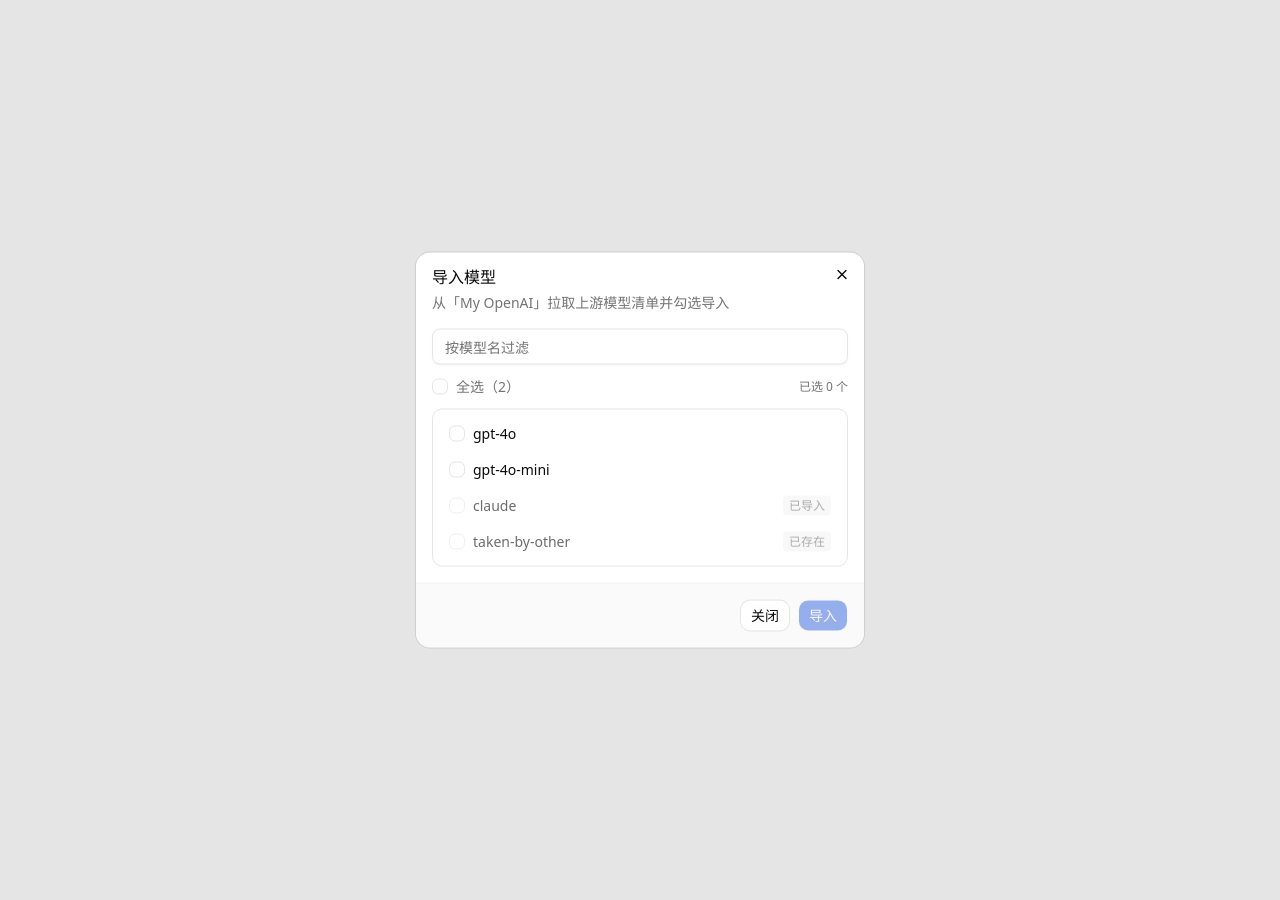
Test: ImportModelsDialog › T-W14: imports selected models and reports the created count
This screenshot has width=1280, height=900.
Click the checkbox named "选择 gpt-4o" at (457, 434), box [449, 426, 465, 442]
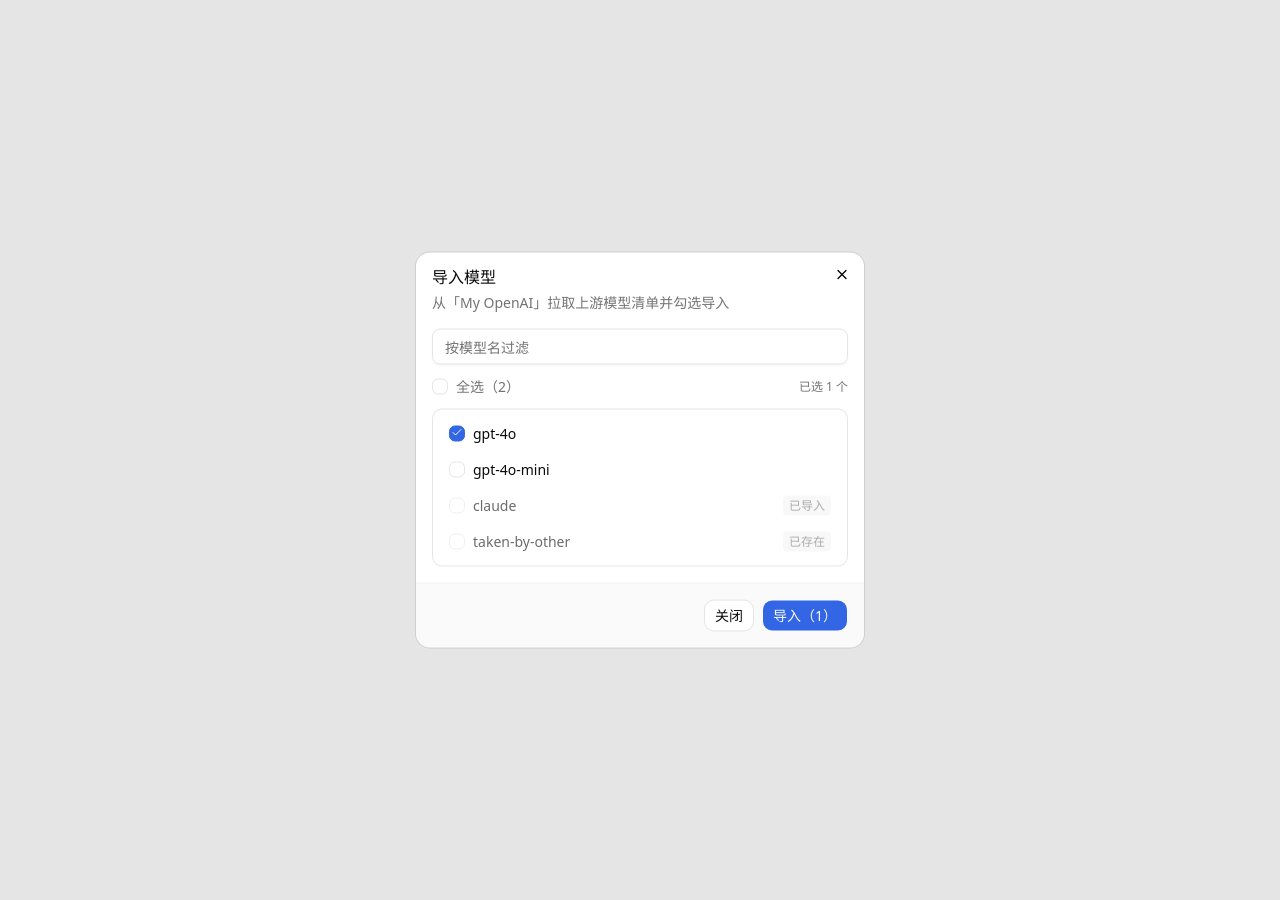
Click the checkbox named "选择 gpt-4o-mini" at (457, 470), box [449, 462, 465, 478]
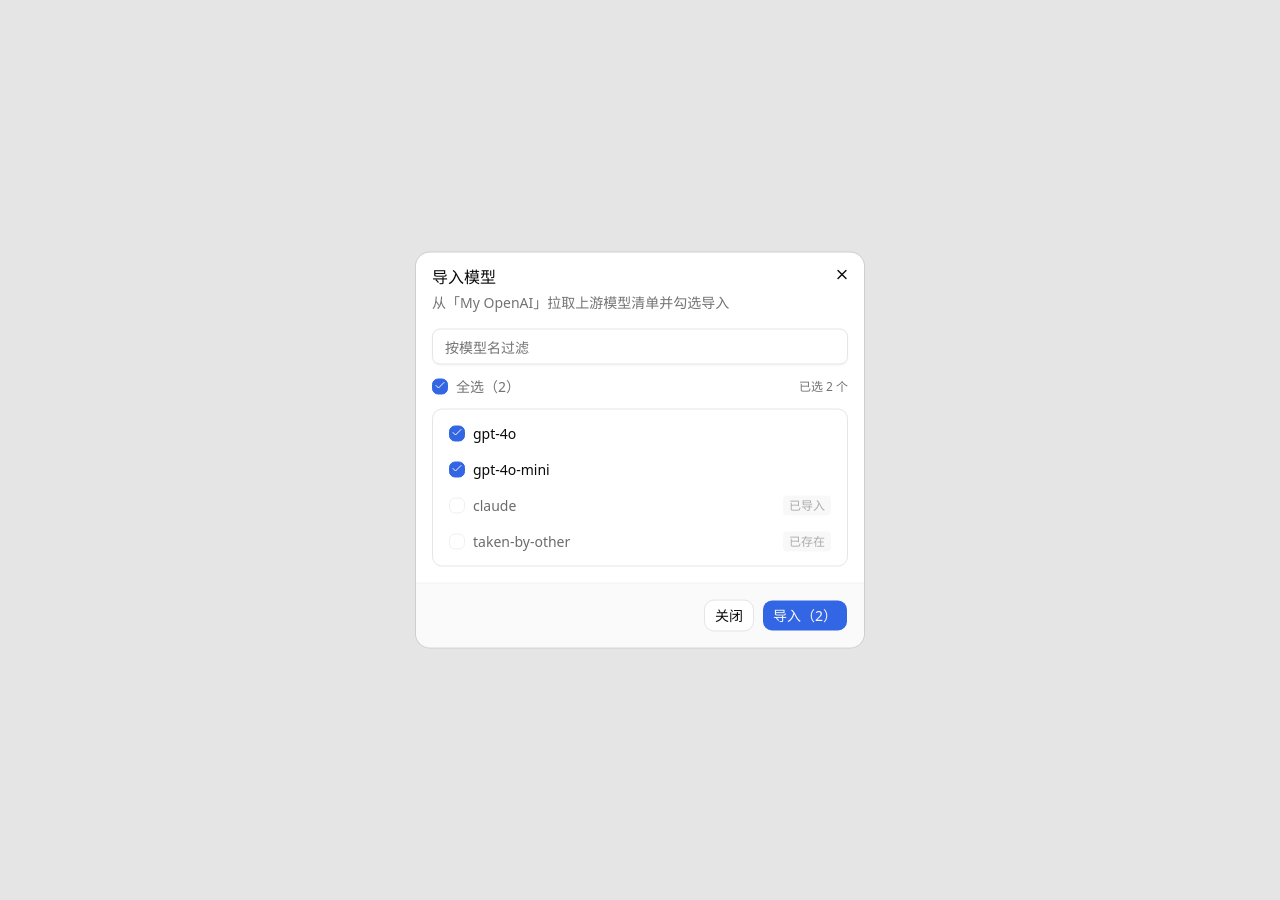
Click the button "导入（2）" at (805, 616), box [762, 600, 848, 632]
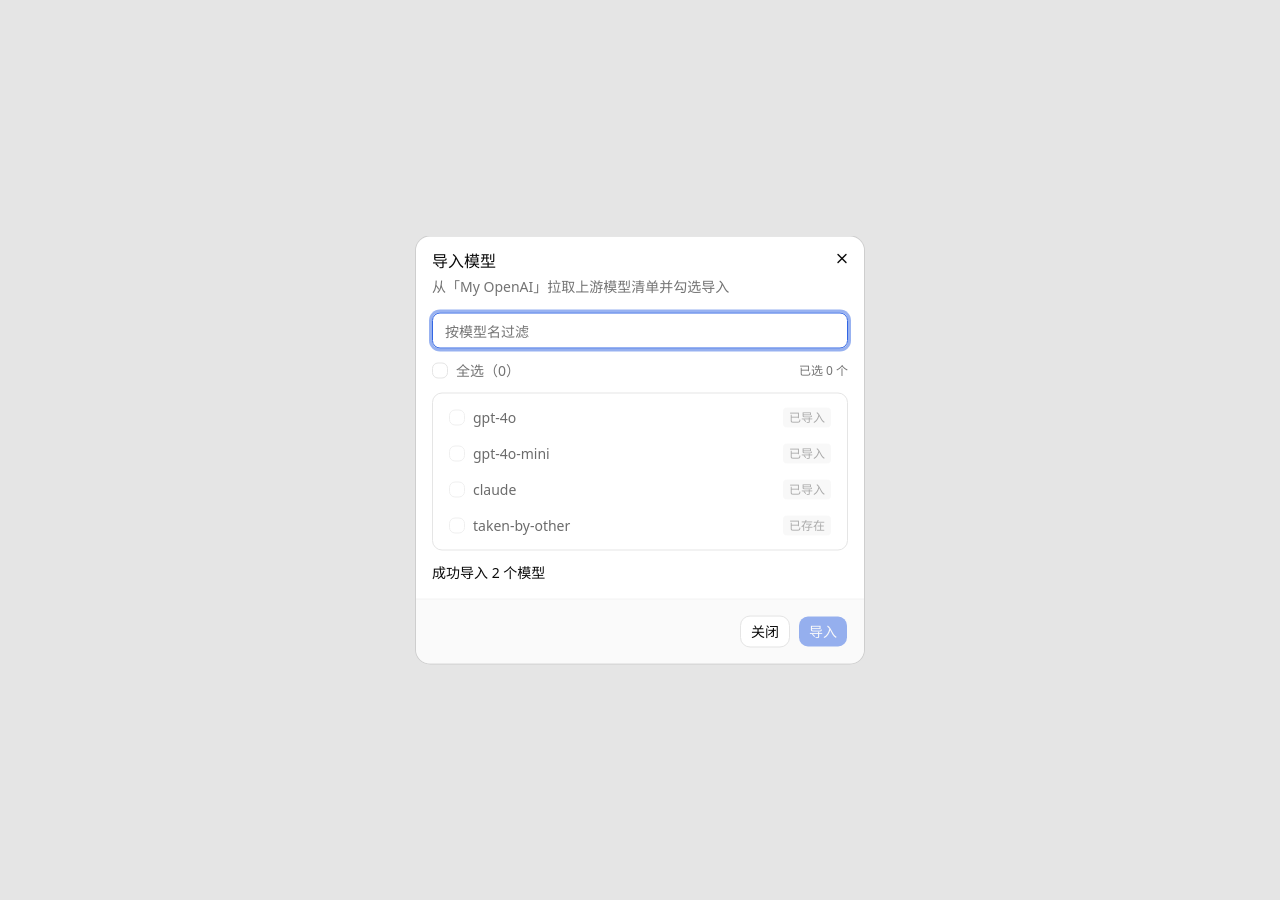
Result: the text "成功导入 2 个模型" is shown at [432, 562, 545, 582]
